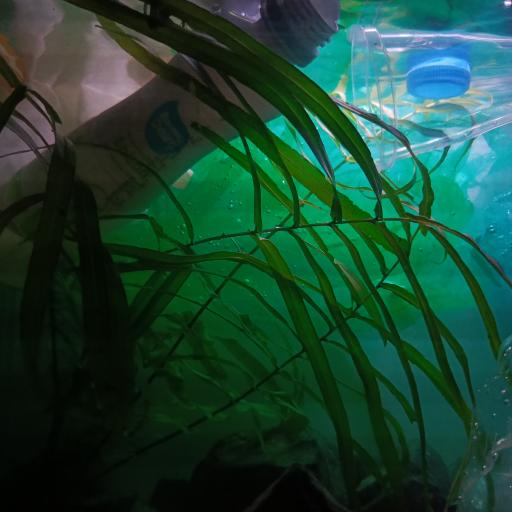bottle_cap: (406, 64, 470, 101)
glove: (4, 2, 164, 134)
plastic_bag: (37, 133, 475, 348), (444, 331, 512, 512)
plastic_bottle: (0, 0, 338, 284)
plastic_cup: (353, 26, 512, 165)
